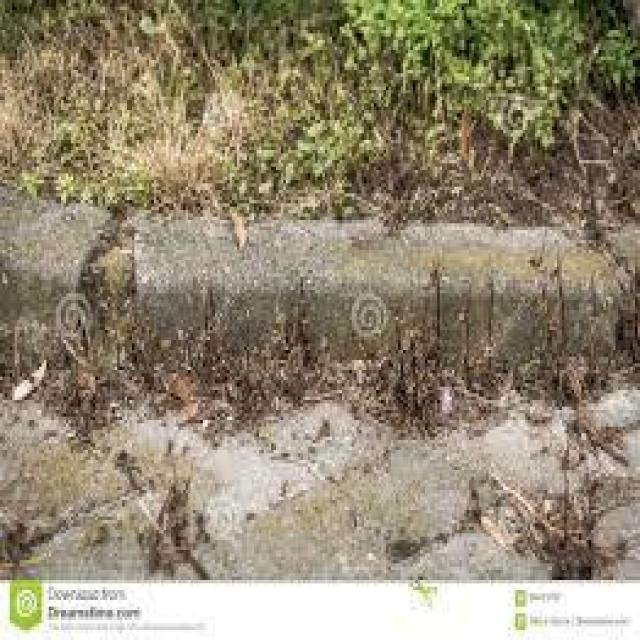curb: (1, 216, 619, 392)
